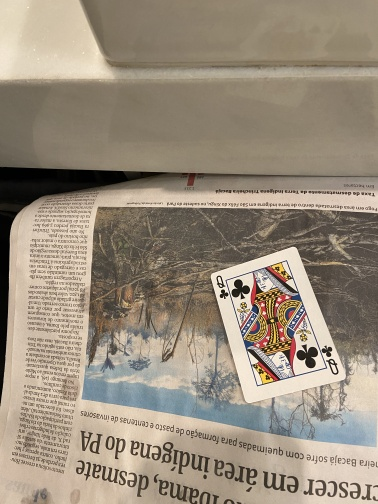queen: (209, 246, 347, 405)
